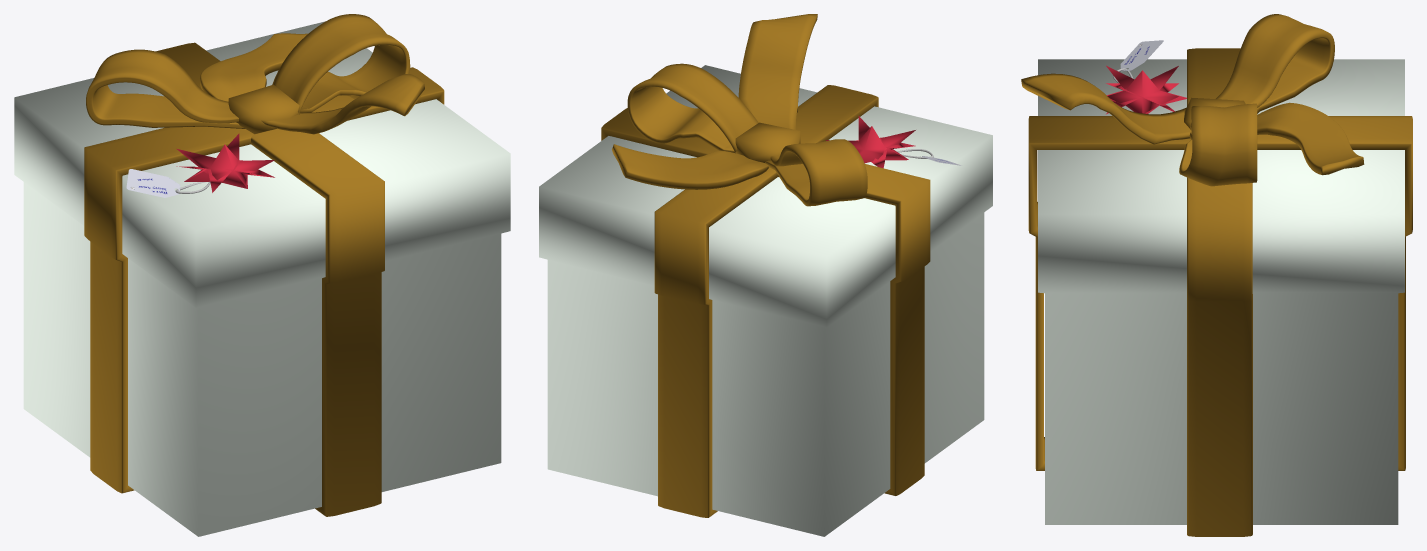
File: xmas prezzie.obj
The picture shows the model from 3 angles, left to right: view 1: azimuth 30°, elevation 25°; view 2: azimuth 150°, elevation 25°; view 3: azimuth 270°, elevation 25°; orthographic projection. The views are drawn at different scales.
Parts seen in each view (by area): view 1: Group3 box, Group3 ribbon, Group3 loop, Group3 end, Group3 star, Group3 knot, Group3 Form25; view 2: Group3 box, Group3 ribbon, Group3 loop, Group3 end, Group3 knot, Group3 star; view 3: Group3 box, Group3 ribbon, Group3 loop, Group3 end, Group3 star, Group3 Form25, Group3 knot.
Part boxes in pixels (<box>): Group3 box: <box>14,21,510,536</box>; Group3 ribbon: <box>84,42,444,516</box>; Group3 loop: <box>86,14,410,128</box>; Group3 end: <box>200,33,424,134</box>; Group3 star: <box>176,133,274,192</box>; Group3 knot: <box>228,84,299,134</box>; Group3 Form25: <box>126,169,180,197</box>; Group3 box: <box>539,65,992,536</box>; Group3 ribbon: <box>601,85,930,517</box>; Group3 loop: <box>627,63,867,206</box>; Group3 end: <box>612,14,817,189</box>; Group3 knot: <box>735,122,800,162</box>; Group3 star: <box>826,116,915,168</box>; Group3 box: <box>1038,59,1404,524</box>; Group3 ribbon: <box>1028,48,1412,536</box>; Group3 loop: <box>1179,14,1334,186</box>; Group3 end: <box>1021,73,1364,175</box>; Group3 star: <box>1106,65,1186,114</box>; Group3 Form25: <box>1120,40,1163,71</box>; Group3 knot: <box>1184,97,1245,130</box>.
Bounding box in the file's own units: 22.79 × 25.52 × 22.46.
